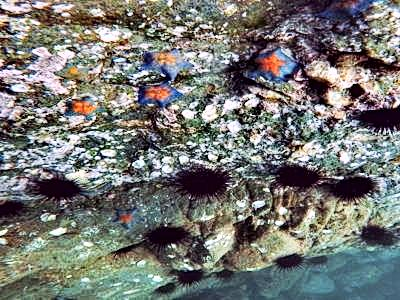urchin: (176, 166, 225, 194), (275, 162, 315, 189), (358, 99, 391, 131), (40, 176, 74, 199), (148, 225, 185, 245), (366, 223, 394, 246), (335, 176, 368, 195), (3, 198, 34, 216), (275, 255, 299, 269), (178, 270, 202, 282)
